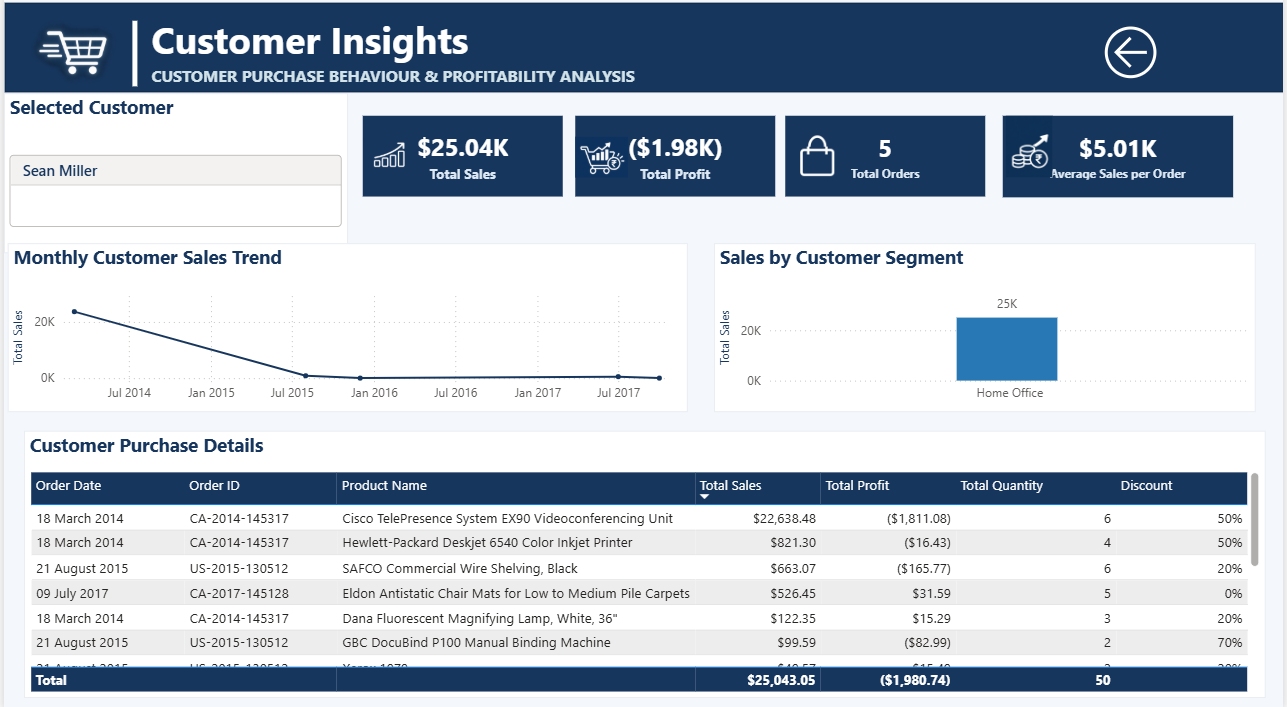

The dashboard page shown, as its layout file describes it:
{"tool":"powerbi","page":{"name":"Customer Insights","canvas":[1280,720],"ordinal":5},"visuals":[{"type":"actionButton","box":[1145.7,22.9,134.3,65.7],"z":4},{"type":"image","box":[108.6,251.4,121.4,42.9],"z":7},{"type":"shape","box":[0,10,1400,91.4],"z":8},{"type":"actionButton","box":[1094.3,27.1,134.3,65.7],"z":9},{"type":"textbox","box":[142.9,17.1,692.9,84.3],"z":10},{"type":"image","box":[0,22.9,142.9,78.6],"z":11},{"type":"image","box":[118.6,261.4,121.4,42.9],"z":12},{"type":"shape","box":[108.6,28.6,44.3,65.7],"z":13},{"type":"cardVisual","title":"Selected Customer","fields":{"Rows":["Fact_Sales.Customer Name"]},"box":[0,101.4,344.3,160],"z":14},{"type":"cardVisual","fields":{"Data":["Fact_Sales.Total Sales"]},"box":[358.6,124.3,200,81],"z":15},{"type":"cardVisual","fields":{"Data":["Fact_Sales.Total Profit"]},"box":[571.4,124.3,200,81],"z":16},{"type":"cardVisual","fields":{"Data":["Fact_Sales.Total Orders"]},"box":[781.4,124.3,200,81],"z":17},{"type":"cardVisual","fields":{"Data":["Fact_Sales.Average Sales per Order"]},"box":[998.6,124.3,230,81.4],"z":18},{"type":"lineChart","title":"Monthly Customer Sales Trend","fields":{"Category":["Dim_Date.Month Start"],"Y":["Fact_Sales.Total Sales"]},"box":[4.3,251.4,680,168.6],"z":19},{"type":"clusteredColumnChart","title":"Sales by Customer Segment","fields":{"Category":["Fact_Sales.Segment"],"Y":["Fact_Sales.Total Sales"]},"box":[710,251.4,541.4,168.6],"z":20},{"type":"tableEx","title":"Customer Purchase Details","fields":{"Values":["Fact_Sales.Order Date","Fact_Sales.Order ID","Fact_Sales.Product Name","Fact_Sales.Total Sales","Fact_Sales.Total Profit","Fact_Sales.Total Quantity","Fact_Sales.Discount"]},"box":[20,438.6,1241.4,267.1],"z":21},{"type":"image","box":[781.4,135.7,64.3,57.1],"z":22},{"type":"image","box":[358.6,131.4,52.9,64.3],"z":23},{"type":"image","box":[998.6,124.3,52.9,61.4],"z":24},{"type":"image","box":[571.4,137.1,52.9,55.7],"z":25}]}

Visuals, with their boxes in screenshot pixels (x1, y1, x2, y2), scaled from the page's 1280x720 canvas onto the 1287x707 screenshot:
actionButton: (left=1152, top=22, right=1286, bottom=87)
image: (left=109, top=247, right=231, bottom=289)
shape: (left=0, top=10, right=1286, bottom=100)
actionButton: (left=1100, top=27, right=1235, bottom=91)
textbox: (left=144, top=17, right=840, bottom=100)
image: (left=0, top=22, right=144, bottom=100)
image: (left=119, top=257, right=241, bottom=299)
shape: (left=109, top=28, right=154, bottom=93)
"Selected Customer" cardVisual: (left=0, top=100, right=346, bottom=257)
cardVisual - Fact_Sales.Total Sales: (left=361, top=122, right=562, bottom=202)
cardVisual - Fact_Sales.Total Profit: (left=575, top=122, right=776, bottom=202)
cardVisual - Fact_Sales.Total Orders: (left=786, top=122, right=987, bottom=202)
cardVisual - Fact_Sales.Average Sales per Order: (left=1004, top=122, right=1235, bottom=202)
"Monthly Customer Sales Trend" lineChart: (left=4, top=247, right=688, bottom=412)
"Sales by Customer Segment" clusteredColumnChart: (left=714, top=247, right=1258, bottom=412)
"Customer Purchase Details" tableEx: (left=20, top=431, right=1268, bottom=693)
image: (left=786, top=133, right=850, bottom=189)
image: (left=361, top=129, right=414, bottom=192)
image: (left=1004, top=122, right=1057, bottom=182)
image: (left=575, top=135, right=628, bottom=189)
